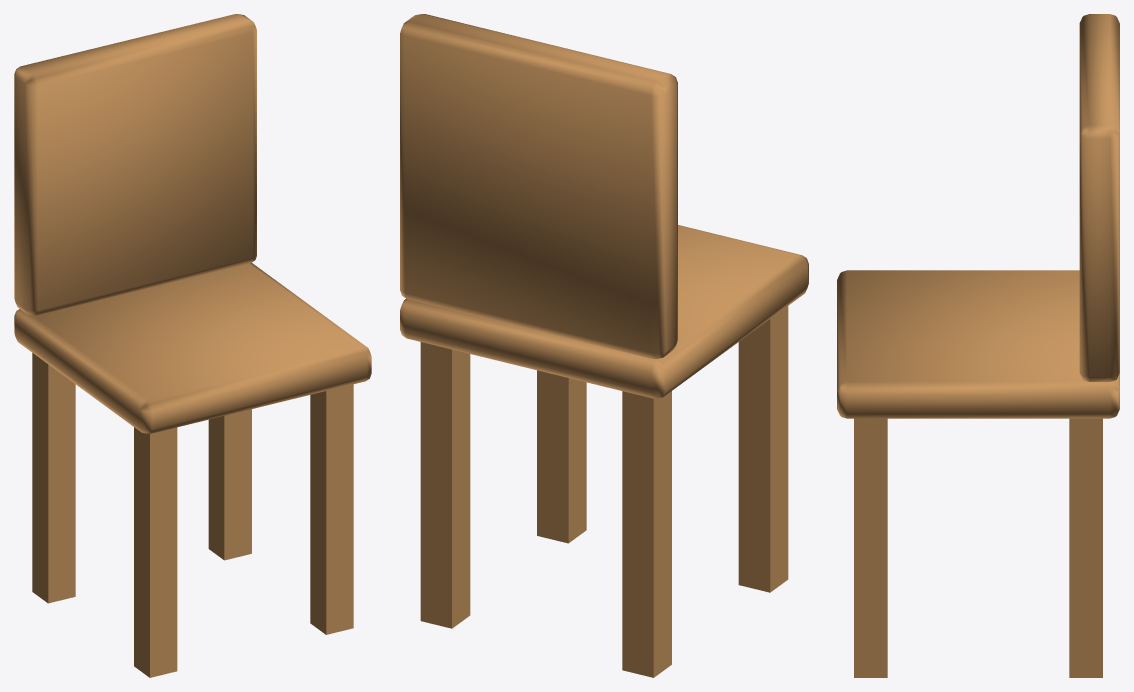
Rendered from v_furn_chair.glb.
3 renders of one model, left to right at view 1: azimuth 30°, elevation 25°; view 2: azimuth 150°, elevation 25°; view 3: azimuth 270°, elevation 25°, orthographic. The views are drawn at different scales.
Visible parts, largest first — view 1: FurnChair; view 2: FurnChair; view 3: FurnChair.
Boxes of the visible parts, x1,y1,x2,y2 form: FurnChair: [14, 14, 371, 677]; FurnChair: [400, 14, 808, 677]; FurnChair: [837, 14, 1119, 677].
Size of the model in its own units: 0.42 by 0.91 by 0.42.
